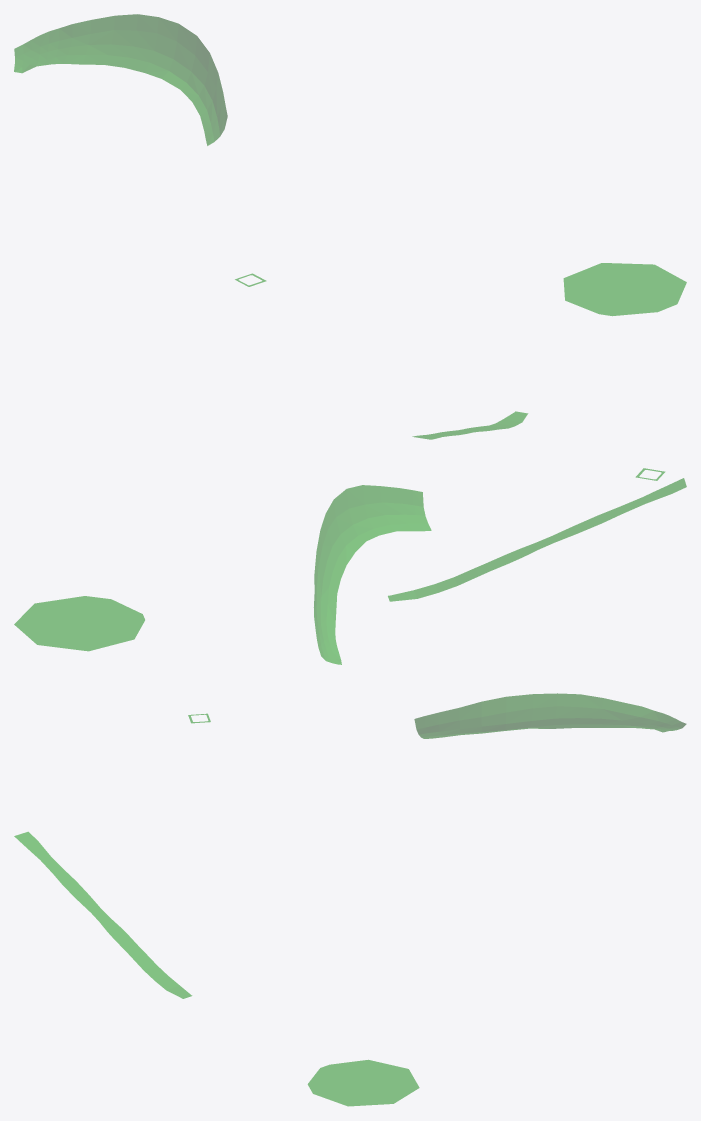
File: road_stone.obj
3 views of the same model, one above another, from view 1: azimuth 30°, elevation 25°; view 2: azimuth 150°, elevation 25°; view 3: azimuth 270°, elevation 25° (orthographic). The views are drawn at different scales.
Bounding box in the file's own units: 266 × 133 × 335.
